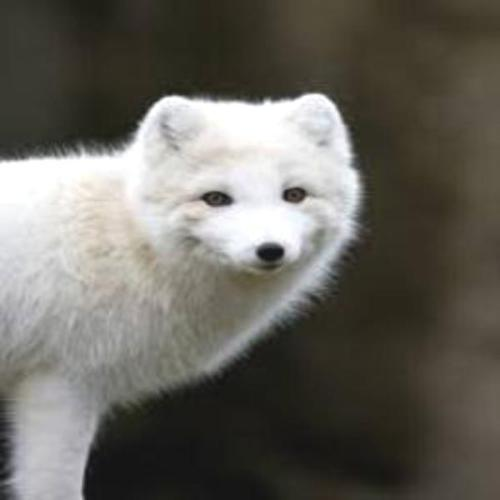arctic_fox-endangered: (3, 102, 362, 494)
